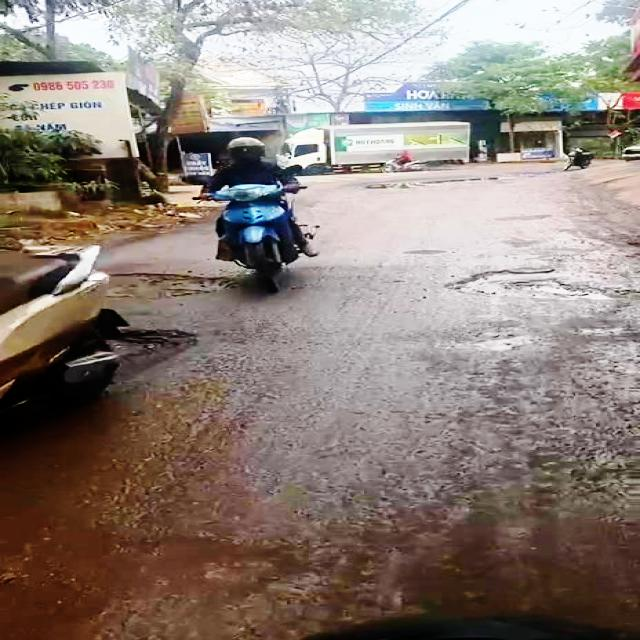pothole: (445, 265, 640, 306), (95, 321, 214, 386), (97, 269, 244, 299)
